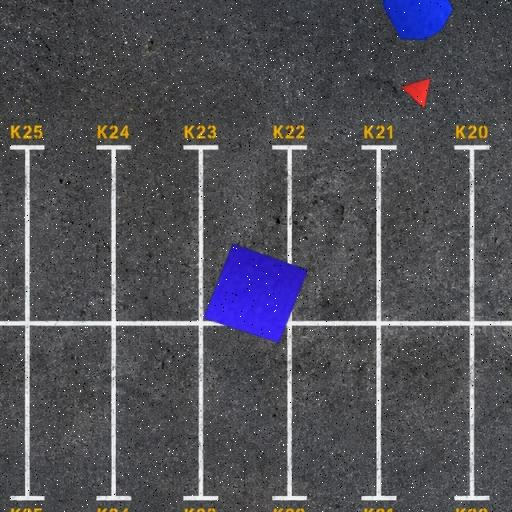BLUE_SQUARE: (202, 243, 309, 344)
